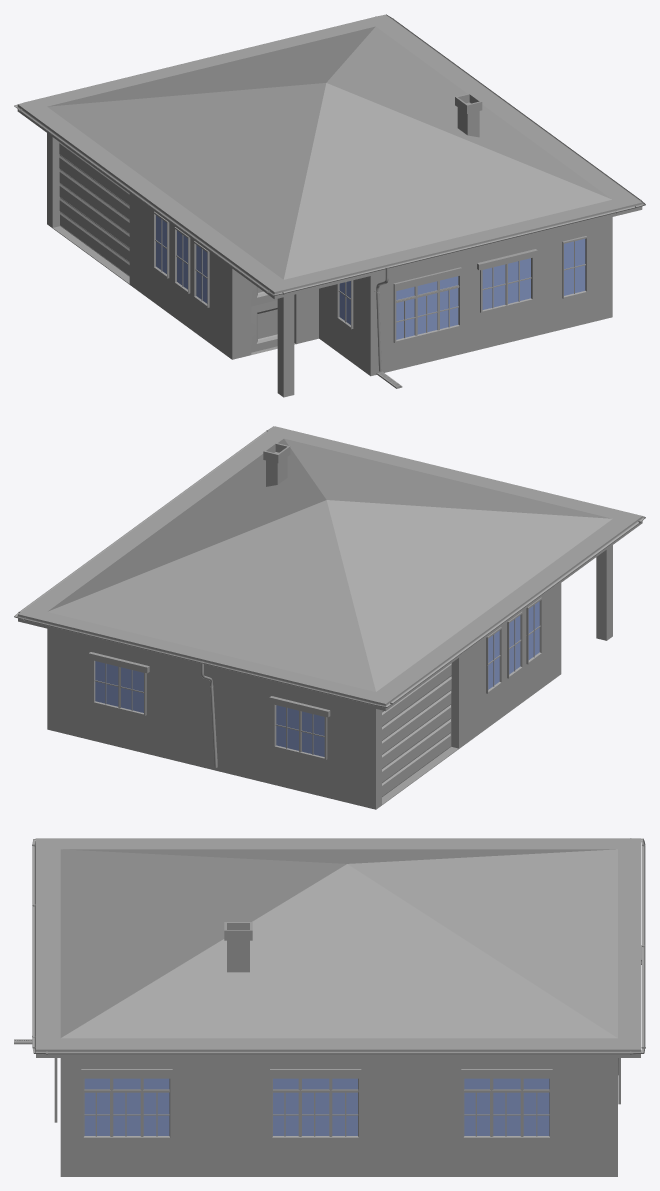
File: N_House_1.fbx
The picture shows the model from 3 angles, top to bottom: view 1: azimuth 30°, elevation 25°; view 2: azimuth 150°, elevation 25°; view 3: azimuth 270°, elevation 25°; orthographic projection. The views are drawn at different scales.
Visible parts, largest first — view 1: N_House_1; view 2: N_House_1; view 3: N_House_1.
Boxes of the visible parts, box(x1,y1,x2,y2) form: N_House_1: box(14, 14, 645, 397); N_House_1: box(14, 426, 645, 809); N_House_1: box(14, 838, 645, 1176).
Size of the model in its own units: 884 by 418 by 1097.
